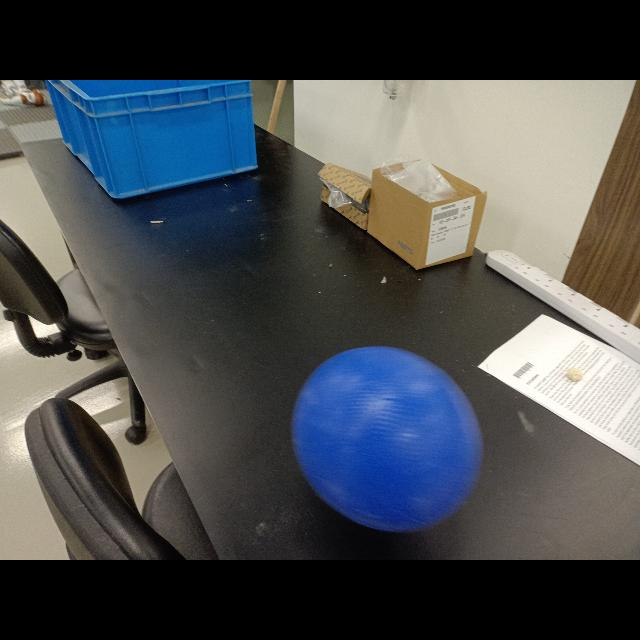B: (294, 346, 491, 538)
